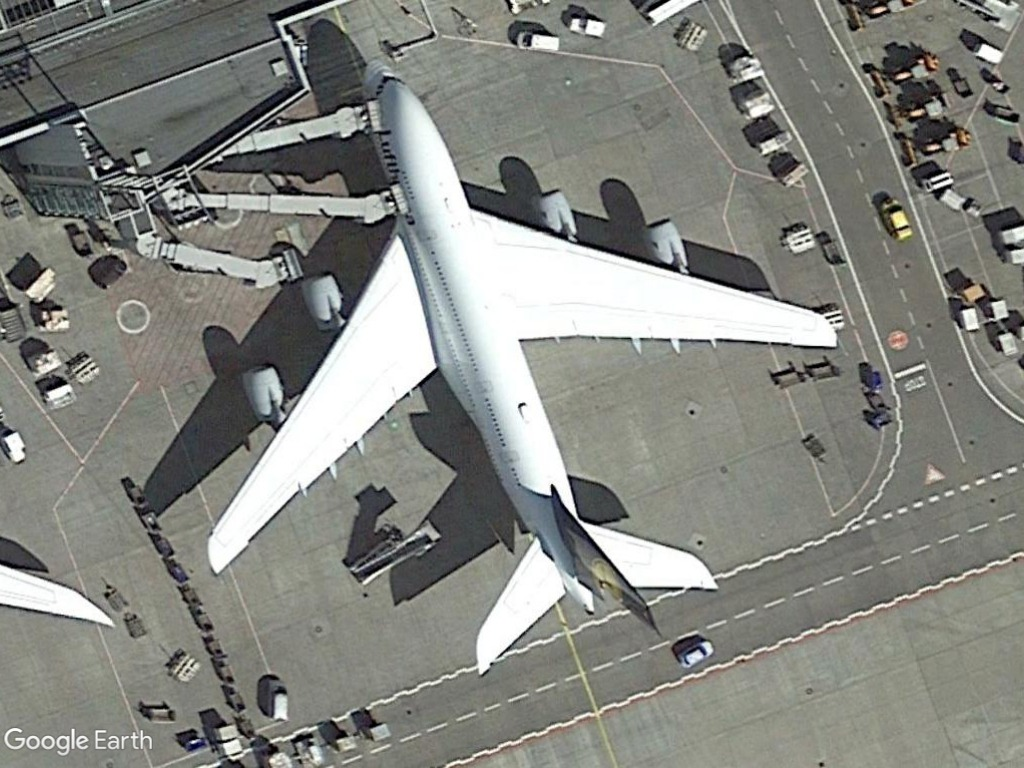airliner: (198, 55, 844, 667)
car: (677, 635, 717, 674)
stairtruck: (346, 515, 442, 587)
van: (512, 25, 564, 55)
